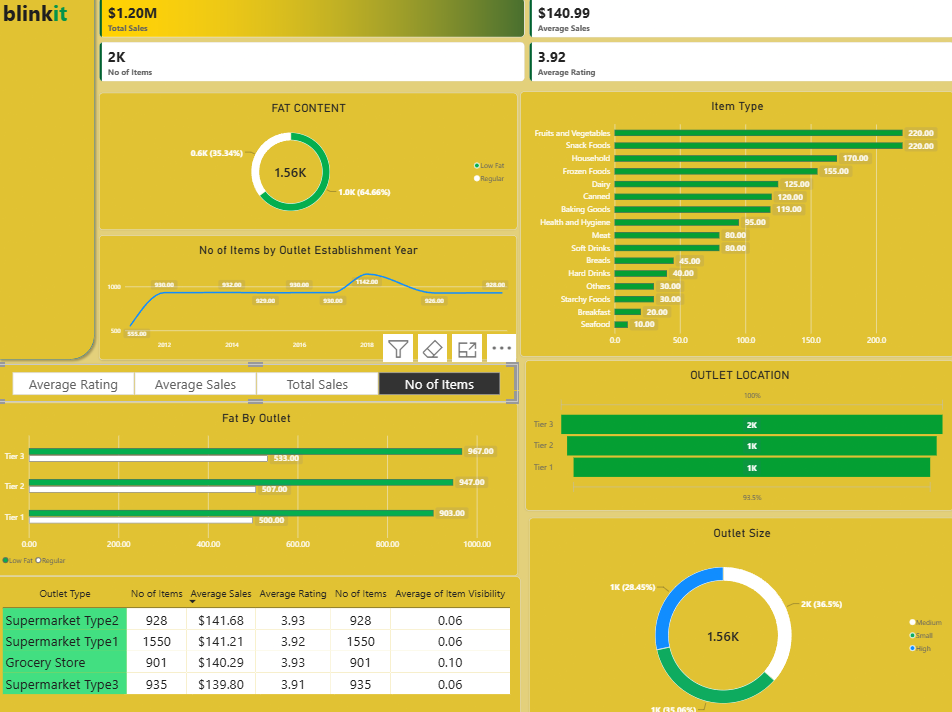

This screenshot's page, from the dashboard's own definition file:
{"tool":"powerbi","page":{"name":"Page 1","canvas":[1920,1500],"ordinal":0},"visuals":[{"type":"shape","box":[0,0,210,750],"z":0},{"type":"textbox","box":[16.3,16.3,150.2,398.1],"z":1000},{"type":"cardVisual","fields":{"Data":["BlinkIT Grocery Data.Total Sales","BlinkIT Grocery Data.Average Sales","BlinkIT Grocery Data.No of Items","BlinkIT Grocery Data.Average Rating","BlinkIT Grocery Data.Average Sales"]},"box":[209.9,16.3,1713.7,168.3],"z":2000},{"type":"donutChart","title":"FAT CONTENT","fields":{"Category":["BlinkIT Grocery Data.Item Fat Content"],"Y":["BlinkIT Grocery Data.Average Sales"]},"box":[209.6,208.1,837,274.6],"z":3000},{"type":"clusteredBarChart","title":"Item Type","fields":{"Category":["BlinkIT Grocery Data.Item Type"],"Y":["BlinkIT Grocery Data.Average Sales"]},"box":[1052.5,205,867.5,530],"z":4000},{"type":"clusteredBarChart","title":"Fat By Outlet","fields":{"Category":["BlinkIT Grocery Data.Outlet Location Type"],"Series":["BlinkIT Grocery Data.Item Fat Content"],"Y":["BlinkIT Grocery Data.Average Sales"]},"box":[0,828.3,1048.3,346.7],"z":5000},{"type":"lineChart","fields":{"Category":["BlinkIT Grocery Data.Outlet Establishment Year"],"Y":["BlinkIT Grocery Data.Average Sales"]},"box":[209.9,492.2,836.1,249.7],"z":6000},{"type":"donutChart","title":"Outlet Size","fields":{"Category":["BlinkIT Grocery Data.Outlet Size"],"Y":["BlinkIT Grocery Data.Average Sales"]},"box":[1070,1056.7,851.7,428.3],"z":7000},{"type":"funnel","title":"OUTLET LOCATION","fields":{"Category":["BlinkIT Grocery Data.Outlet Location Type"],"Y":["BlinkIT Grocery Data.Average Sales"]},"box":[1063.3,743.3,856.7,300.7],"z":8000},{"type":"tableEx","fields":{"Values":["BlinkIT Grocery Data.Outlet Type","BlinkIT Grocery Data.Average Sales","BlinkIT Grocery Data.Average Sales","BlinkIT Grocery Data.Average Rating","BlinkIT Grocery Data.No of Items","Avg(BlinkIT Grocery Data.Item Visibility)"]},"box":[0,1175,1052.5,325],"z":9000},{"type":"slicer","fields":{"Values":["Parameter 2.Parameter"]},"box":[0,750,1047.5,77.5],"z":9005}]}

Visuals, with their boxes on the page's 1920x1500 design canvas (x1, y1, x2, y2). These are canvas units, not pixel positions in the 952x712 screenshot, which may show the page scaled, cropped or inside an application window:
shape: Rect(0, 0, 210, 750)
textbox: Rect(16, 16, 166, 414)
cardVisual - BlinkIT Grocery Data.Total Sales x BlinkIT Grocery Data.Average Sales: Rect(210, 16, 1924, 185)
"FAT CONTENT" donutChart: Rect(210, 208, 1047, 483)
"Item Type" clusteredBarChart: Rect(1052, 205, 1920, 735)
"Fat By Outlet" clusteredBarChart: Rect(0, 828, 1048, 1175)
lineChart - BlinkIT Grocery Data.Outlet Establishment Year x BlinkIT Grocery Data.Average Sales: Rect(210, 492, 1046, 742)
"Outlet Size" donutChart: Rect(1070, 1057, 1922, 1485)
"OUTLET LOCATION" funnel: Rect(1063, 743, 1920, 1044)
tableEx - BlinkIT Grocery Data.Outlet Type x BlinkIT Grocery Data.Average Sales: Rect(0, 1175, 1052, 1500)
slicer - Parameter 2.Parameter: Rect(0, 750, 1048, 828)
